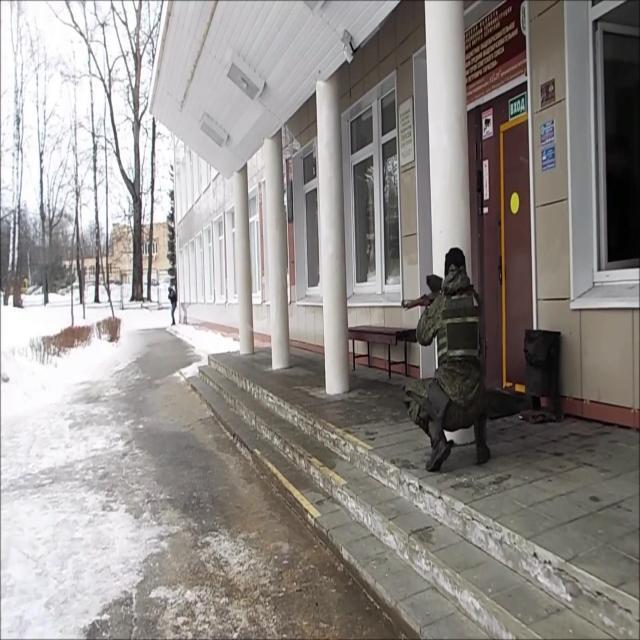pistol: (402, 292, 440, 311)
